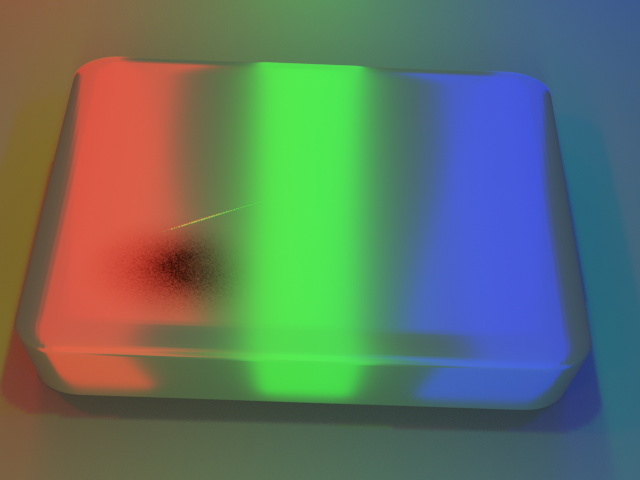scratch: (30, 92, 419, 373)
stain: (22, 195, 282, 352)
